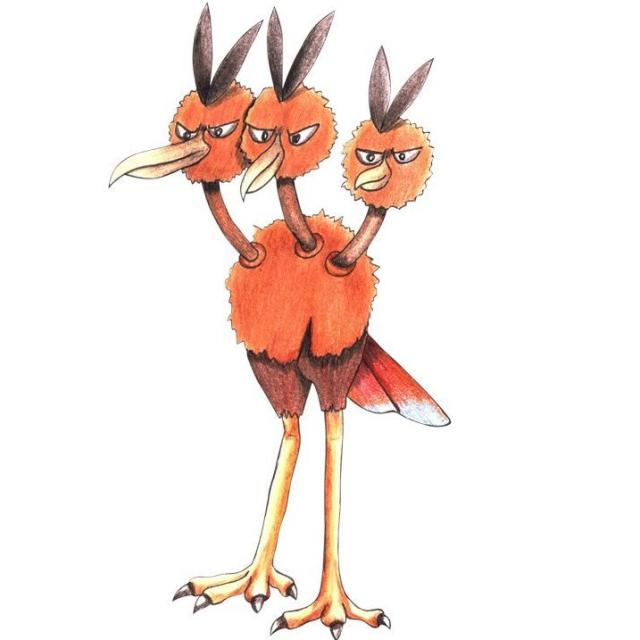Dodrio: (117, 2, 440, 640)
